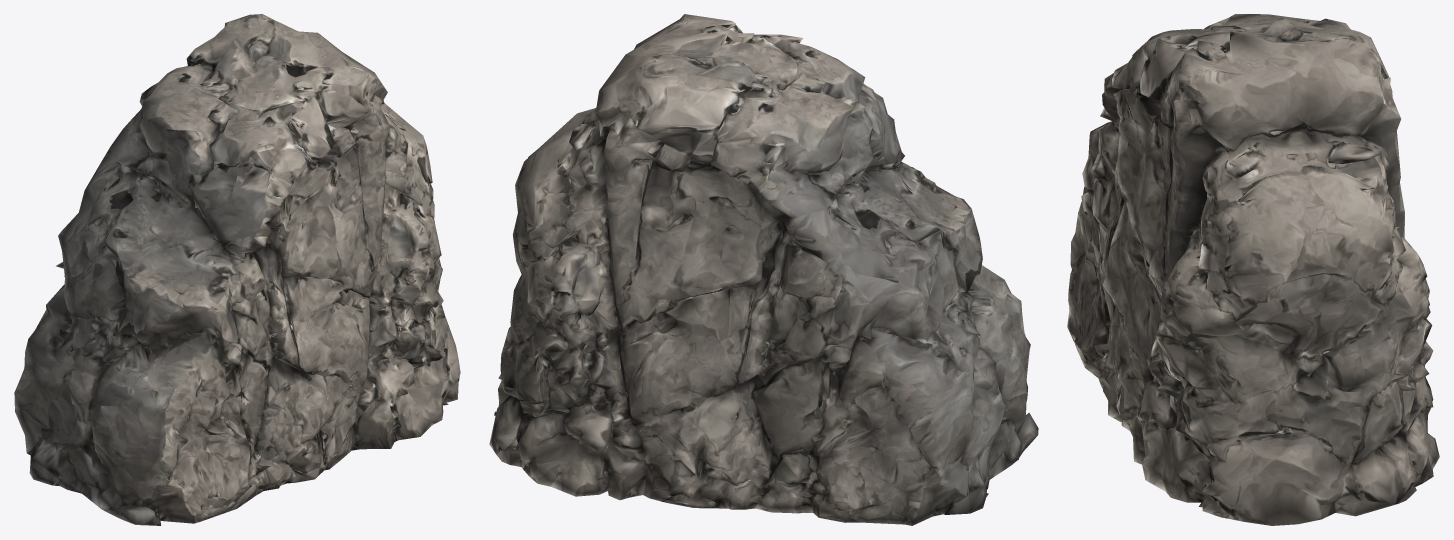
File: crag_e_lod1.glb
The picture shows the model from 3 angles, left to right: view 1: azimuth 30°, elevation 25°; view 2: azimuth 150°, elevation 25°; view 3: azimuth 270°, elevation 25°; orthographic projection. The views are drawn at different scales.
Visible parts, largest first — view 1: crag_e_lod1; view 2: crag_e_lod1; view 3: crag_e_lod1.
Part boxes in pixels (bbox=[...]): crag_e_lod1: bbox=[14, 14, 460, 525]; crag_e_lod1: bbox=[489, 14, 1038, 525]; crag_e_lod1: bbox=[1067, 14, 1439, 525].
Size of the model in its own units: 61.63 by 51.96 by 43.26.
1 material, 1 textured.
